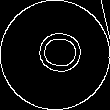O_W: (27, 30, 83, 80)
